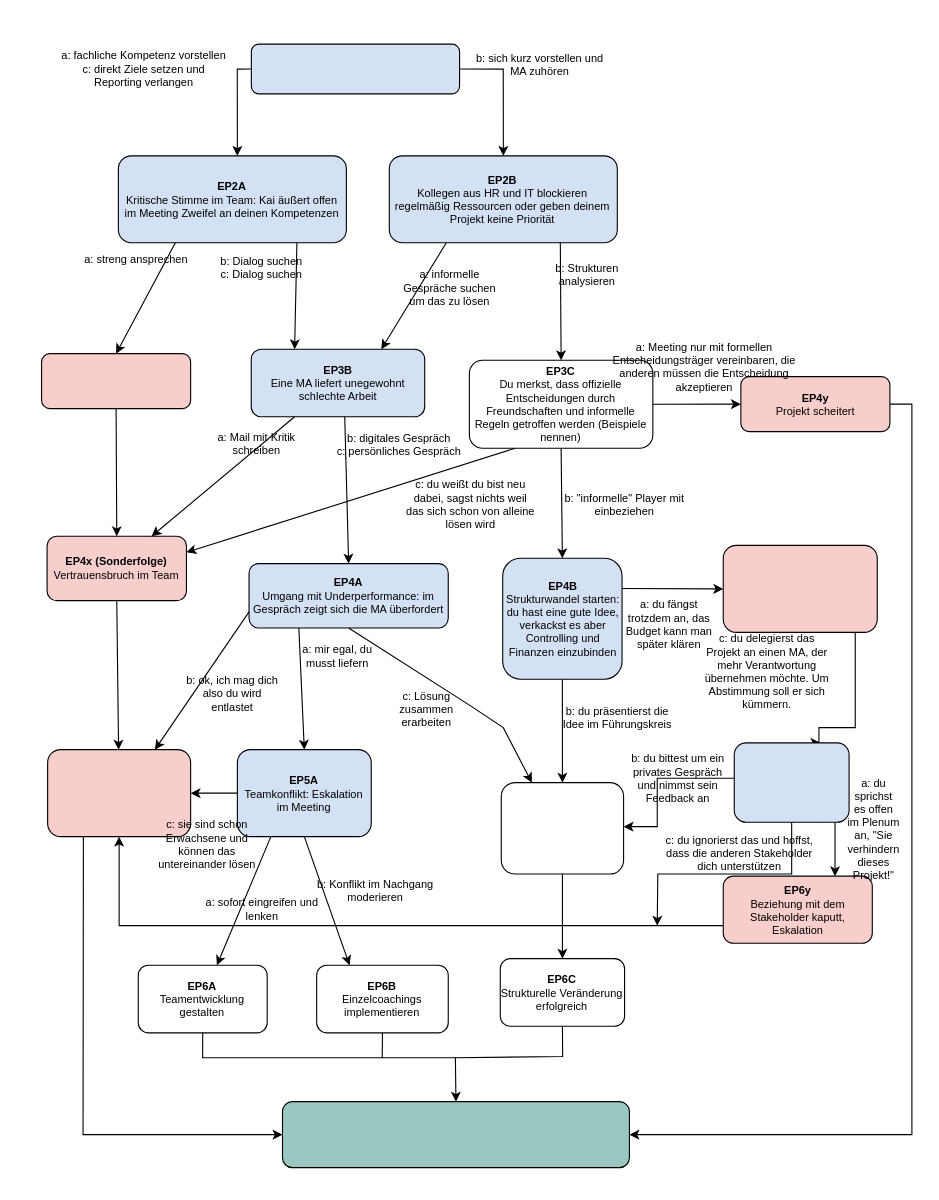
This 939x1200 diagram has some shape labels left out. The centre of each missing label's shape, as x and y in pixels:
"EP1: Vorstellung als Führungskraft" goes at [355,68].
"EP3A Konflikt mit Kai" goes at [115,381].
"EP5B Initiative erfolgreich (EP5C 1 u. 2 wegen EP4A und EP4B)" goes at [562,828].
"EP5C Ein Stakeholder blockiert dein Projekt" goes at [791,782].
"EP5x Reputationsproblem" goes at [119,793].
"EP5y Stakeholder mit dir unzufrieden, äußern Kritik an deiner Arbeitsweise" goes at [799,588].
"EP7 (Finale) Bewertung zeigen, Feedback" goes at [455,1134].
